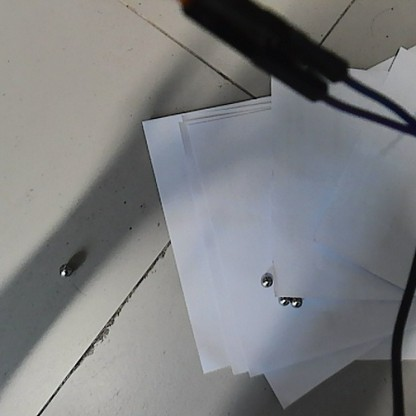ironball: (287, 291, 303, 311), (57, 261, 72, 280), (258, 269, 273, 287), (274, 293, 289, 307)
